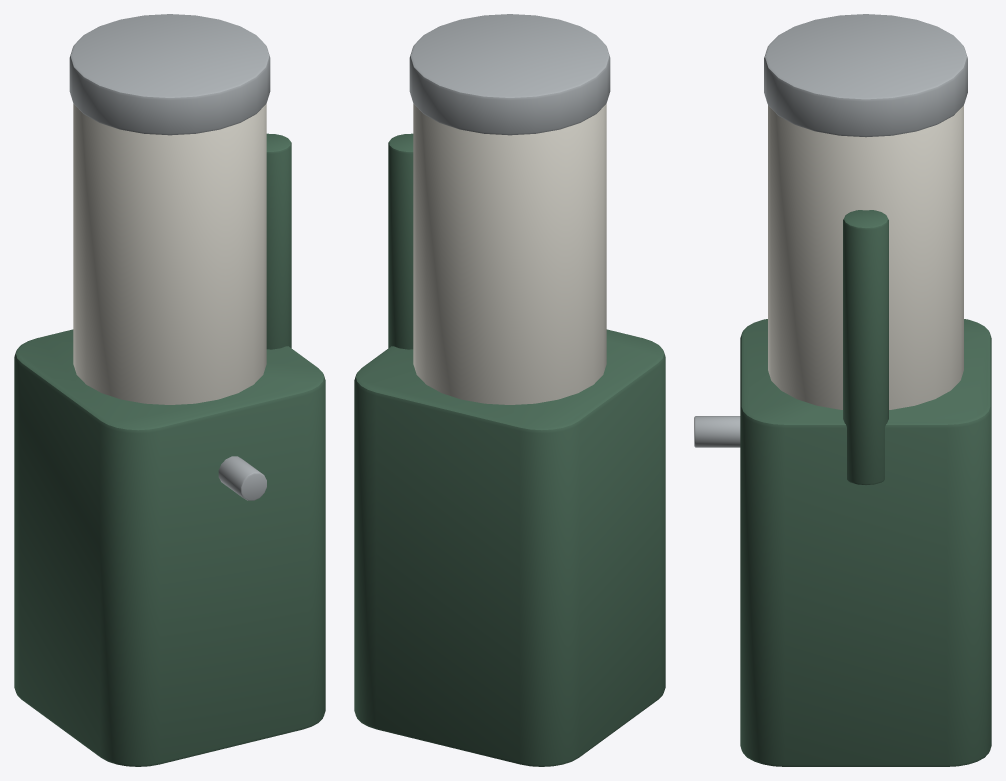
The model's file is water_cooler_public.glb.
3 renders of one model, left to right at view 1: azimuth 30°, elevation 25°; view 2: azimuth 150°, elevation 25°; view 3: azimuth 270°, elevation 25°, orthographic.
Visible parts, largest first — view 1: WaterCooler_Cabinet, WaterCooler_Tank, WaterCooler_Lid, WaterCooler_CupDispenser, WaterCooler_Spigot; view 2: WaterCooler_Cabinet, WaterCooler_Tank, WaterCooler_Lid, WaterCooler_CupDispenser; view 3: WaterCooler_Cabinet, WaterCooler_Tank, WaterCooler_Lid, WaterCooler_CupDispenser, WaterCooler_Spigot.
Part boxes in pixels (x1,y1,x2,y2): WaterCooler_Cabinet: [14, 329, 325, 766]; WaterCooler_Tank: [73, 103, 266, 404]; WaterCooler_Lid: [69, 14, 270, 135]; WaterCooler_CupDispenser: [266, 133, 291, 349]; WaterCooler_Spigot: [218, 456, 266, 500]; WaterCooler_Cabinet: [354, 329, 665, 766]; WaterCooler_Tank: [413, 103, 606, 404]; WaterCooler_Lid: [409, 14, 610, 135]; WaterCooler_CupDispenser: [388, 133, 413, 349]; WaterCooler_Cabinet: [740, 319, 991, 766]; WaterCooler_Tank: [768, 105, 963, 409]; WaterCooler_Lid: [764, 14, 967, 137]; WaterCooler_CupDispenser: [843, 210, 888, 484]; WaterCooler_Spigot: [694, 416, 740, 447].
Size of what is drawn, in the model's own units: 0.42 by 1.14 by 0.4656.
